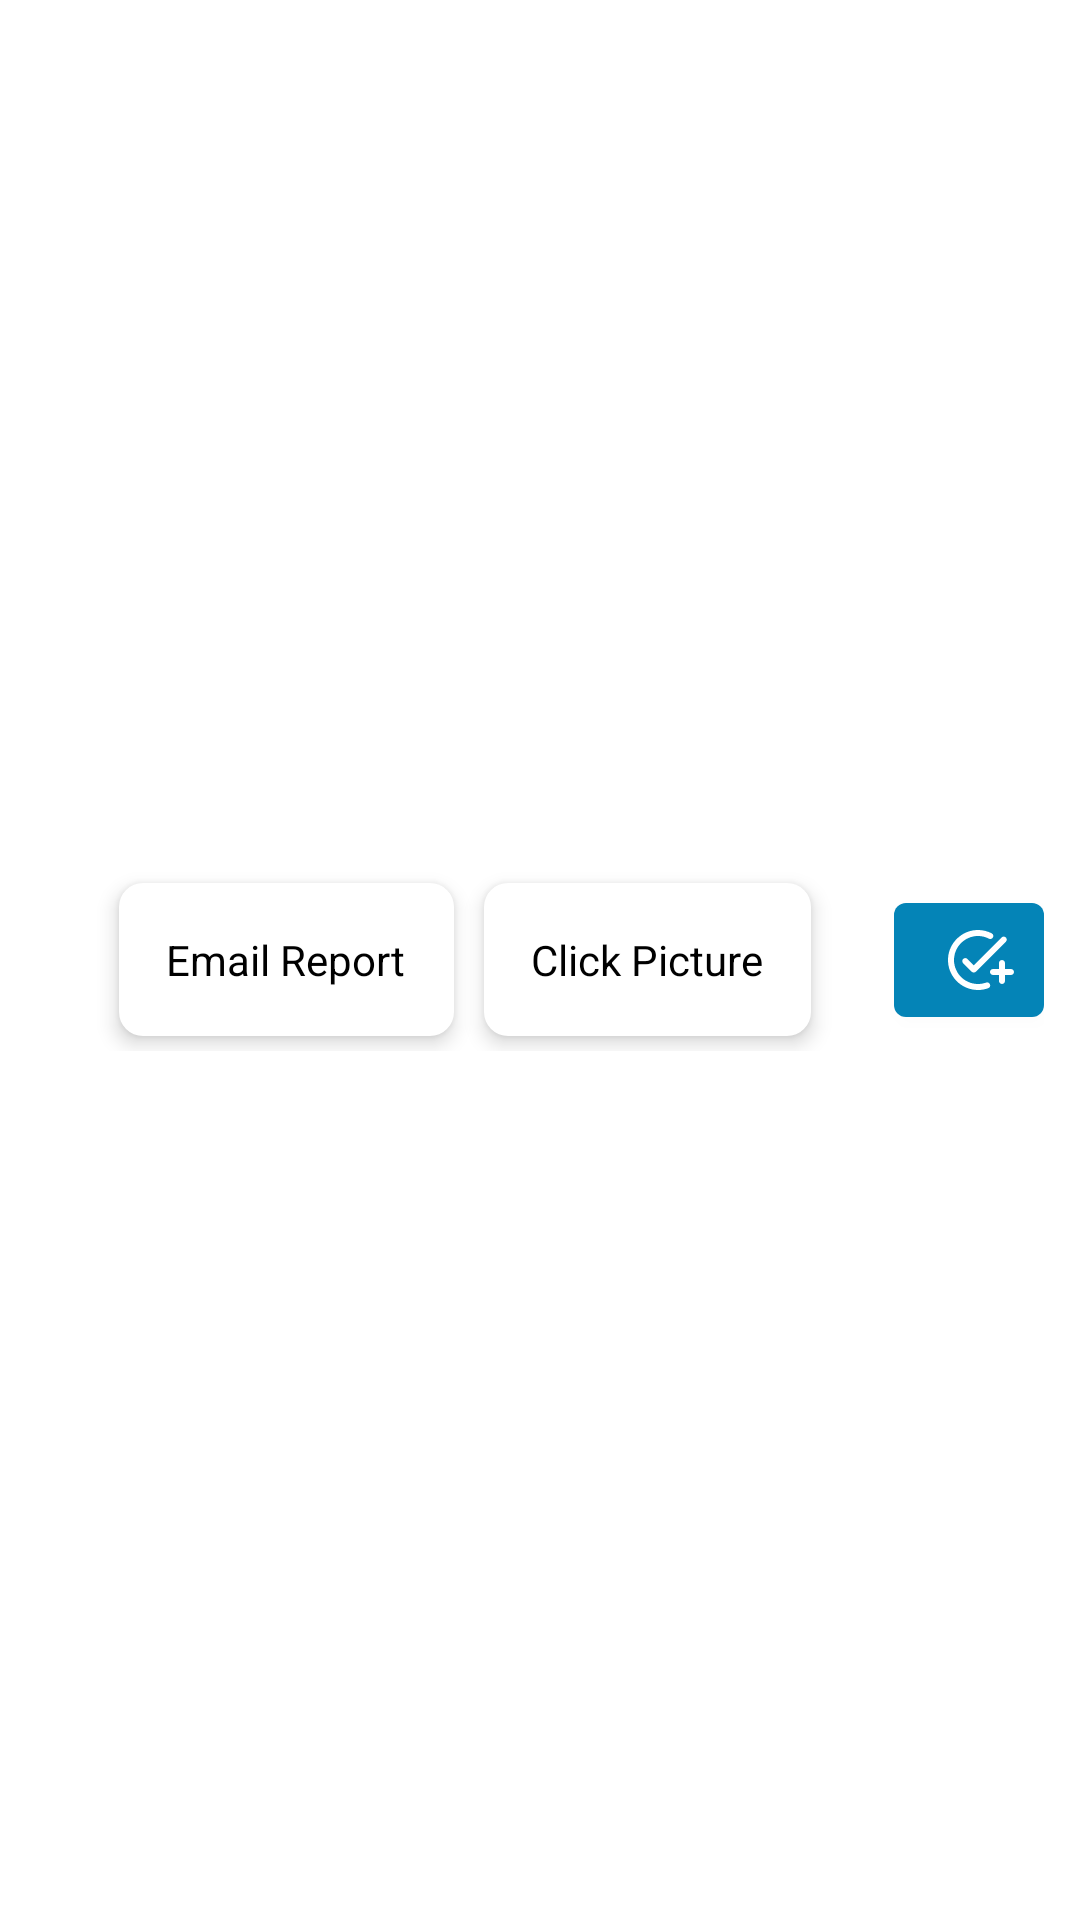

Locate icon controls on the screen. Image size 1080w x 1920h, boxes as (x1, y1, x2, y2).
add task: (894, 903, 1044, 1017)
